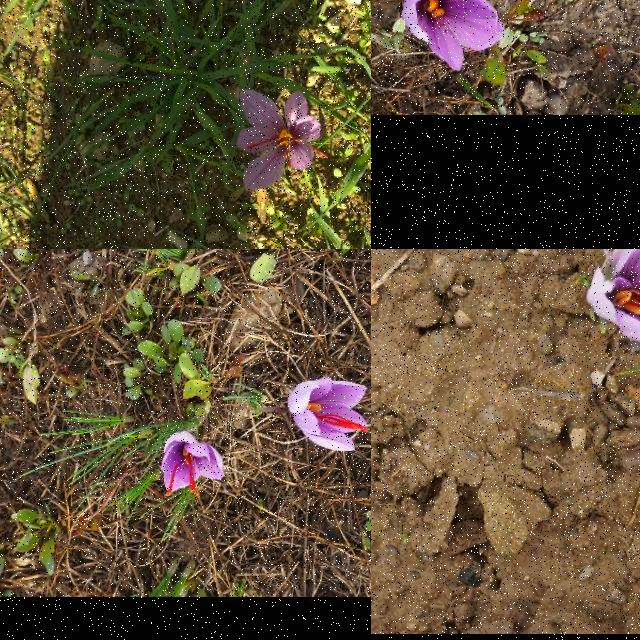flower: (236, 89, 330, 193), (393, 0, 504, 70), (287, 378, 369, 452), (587, 249, 640, 362), (160, 430, 226, 498)
